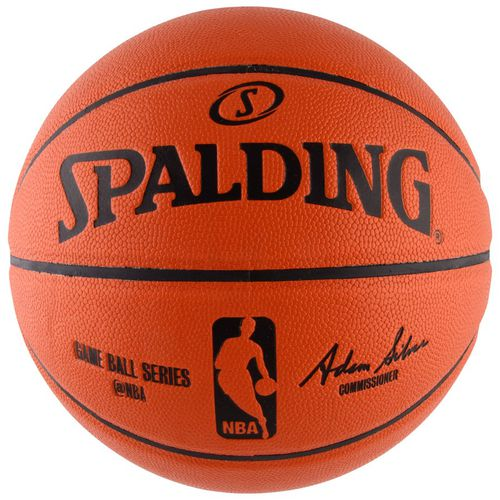ball: (15, 12, 483, 491)
